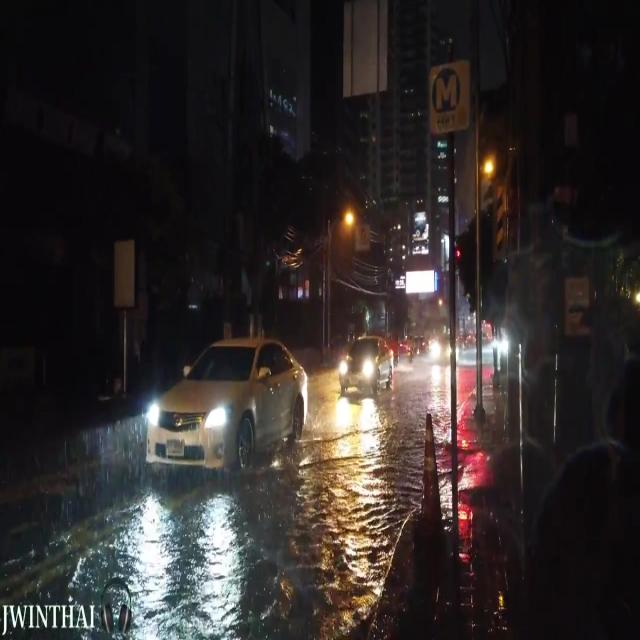Car: (141, 337, 304, 468), (338, 334, 392, 392)
